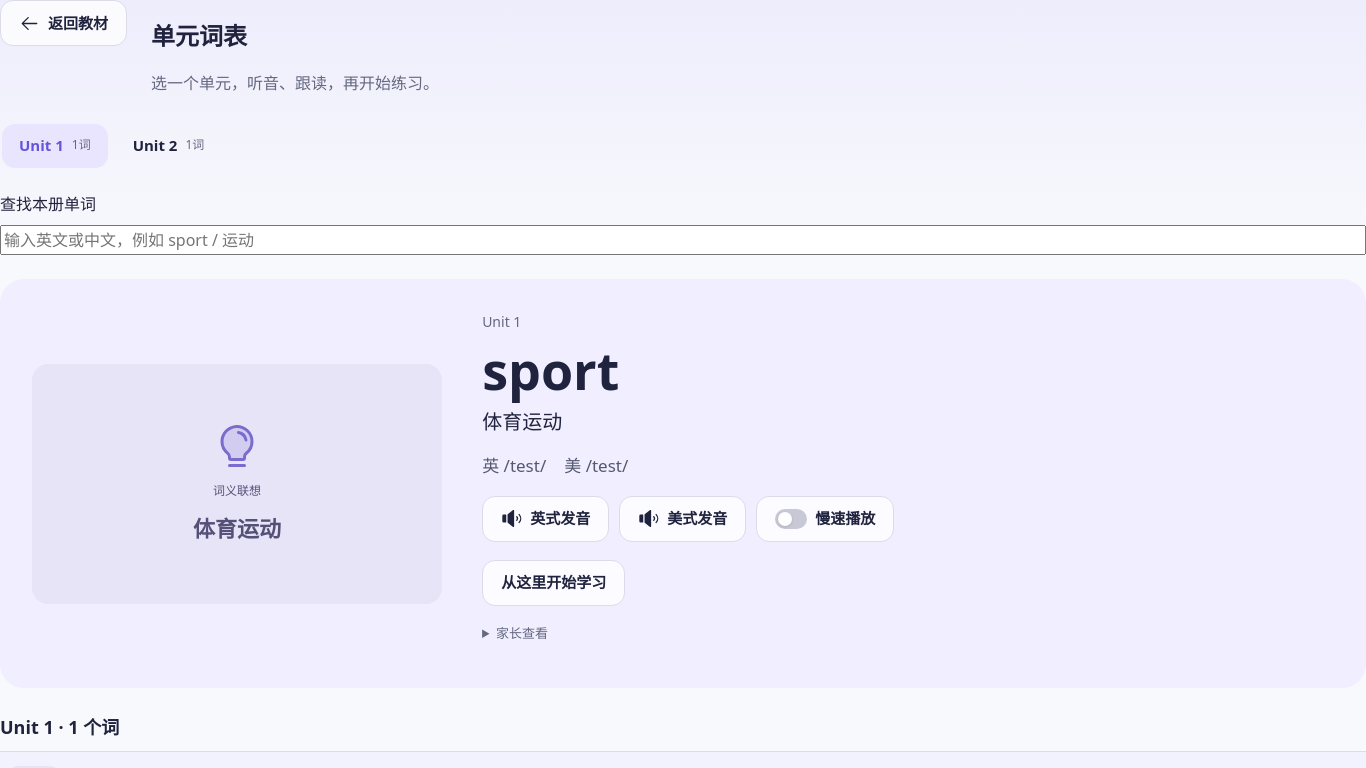
it: CurriculumBookView › opens a searched word in its own unit for preview without starting study
The width and height of the screenshot is (1366, 768).
Expected: the element named "当前单词 sport" is shown, [0,279,1365,688]
Type "aunt" into the search field. click: (683, 240)
box: [0,225,1365,255]
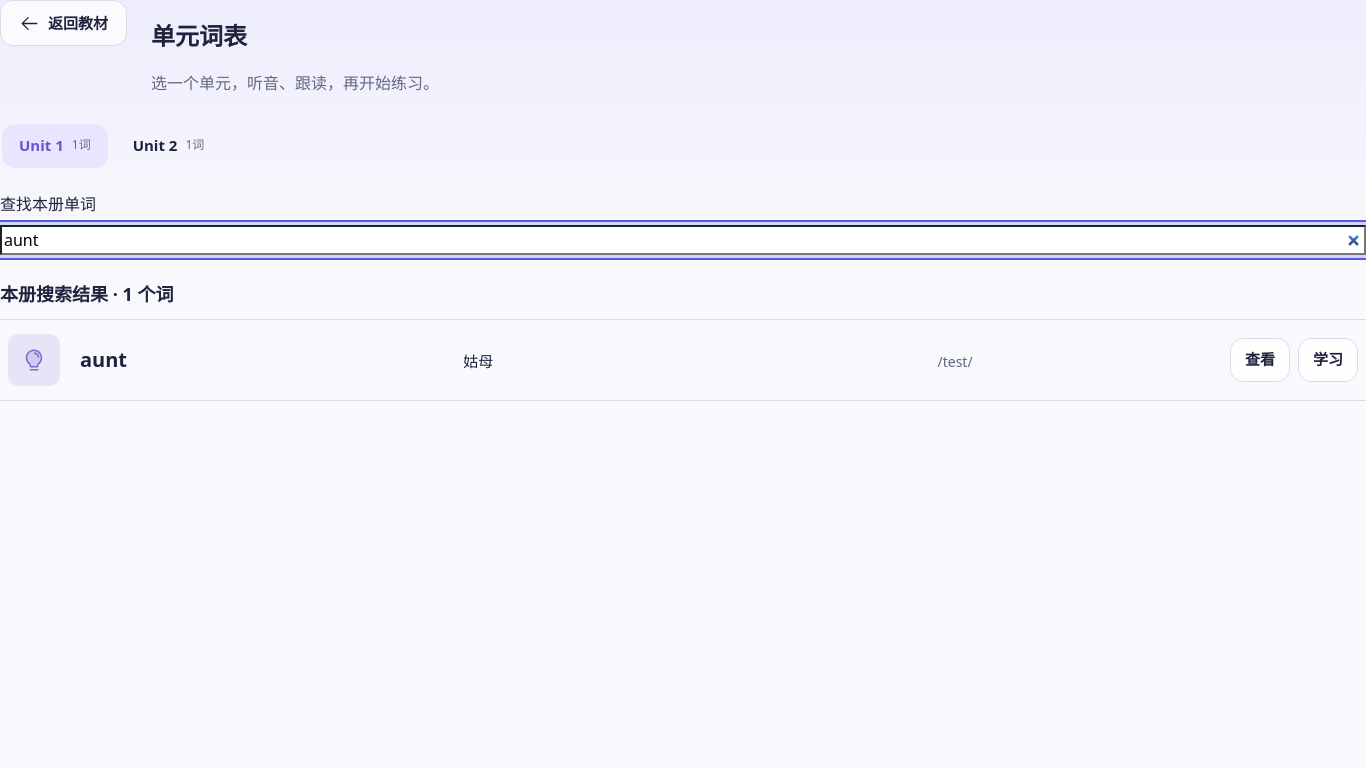
Click the button with aria-label "查看 aunt". click: (1260, 360)
box: [1230,338,1290,382]
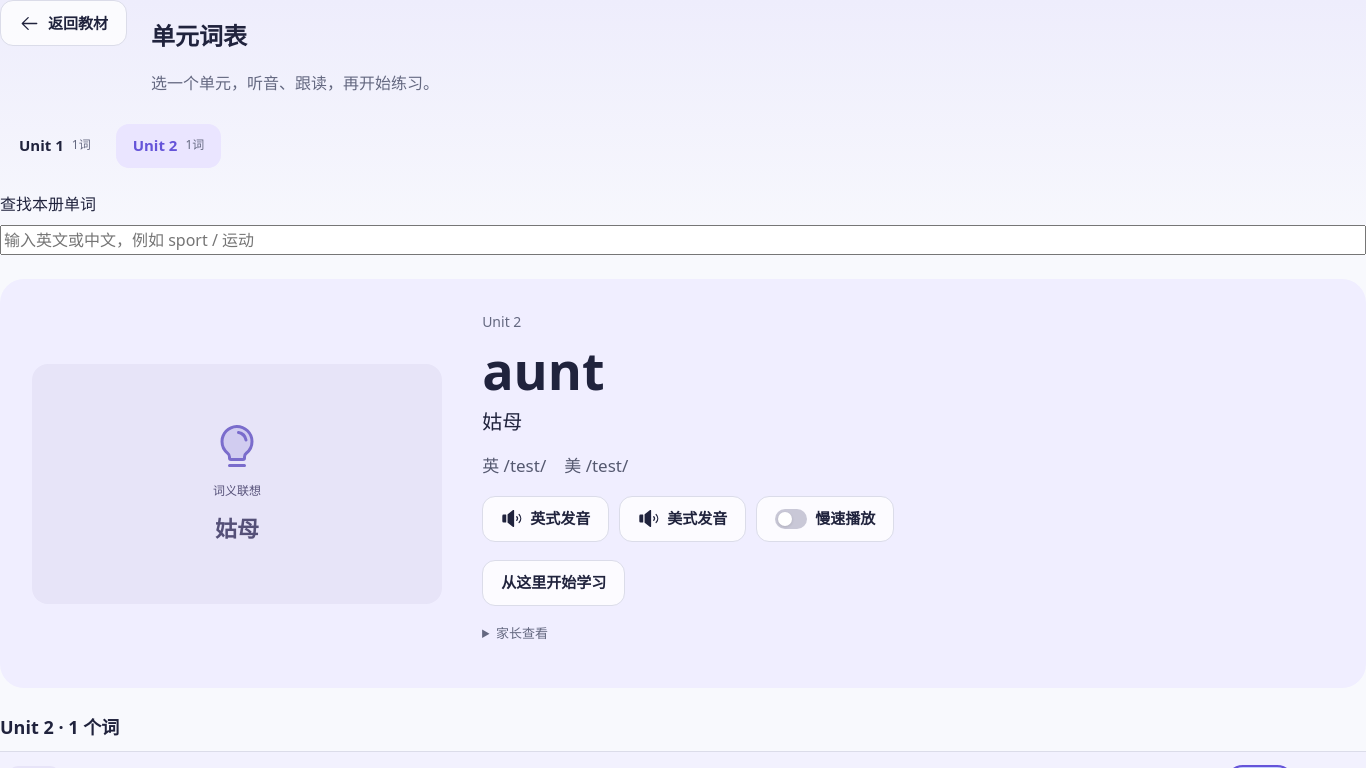
Expected: the element named "当前单词 aunt" is shown, [0,279,1365,688]
Expected: the search field is empty, [0,225,1365,255]
